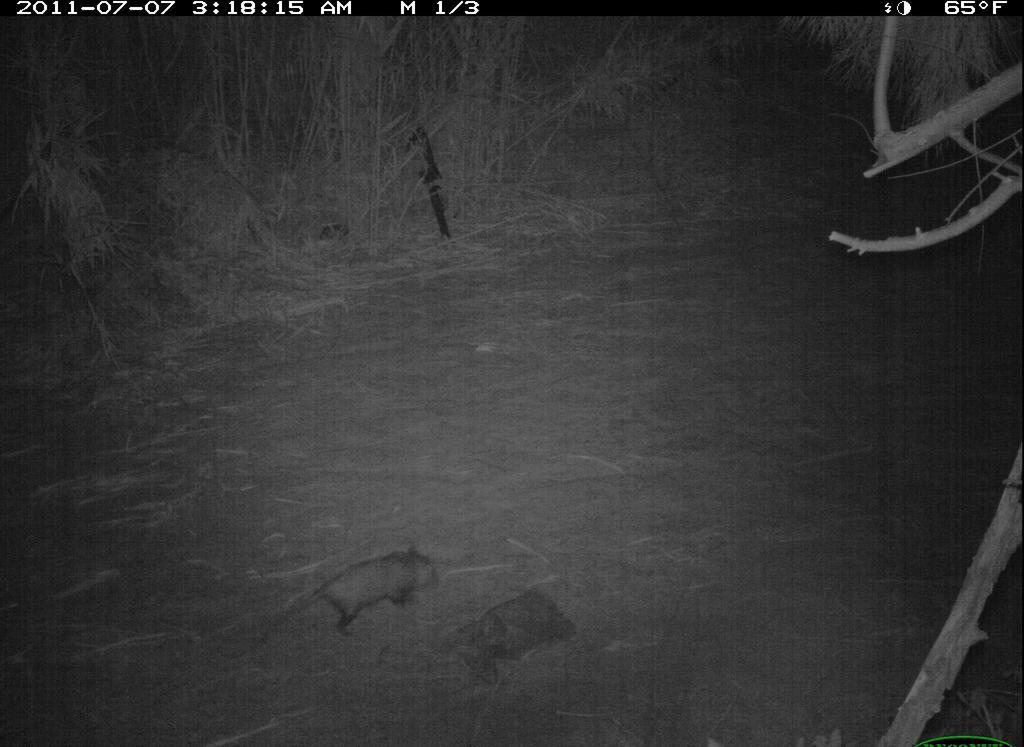opossum: (249, 524, 464, 662)
